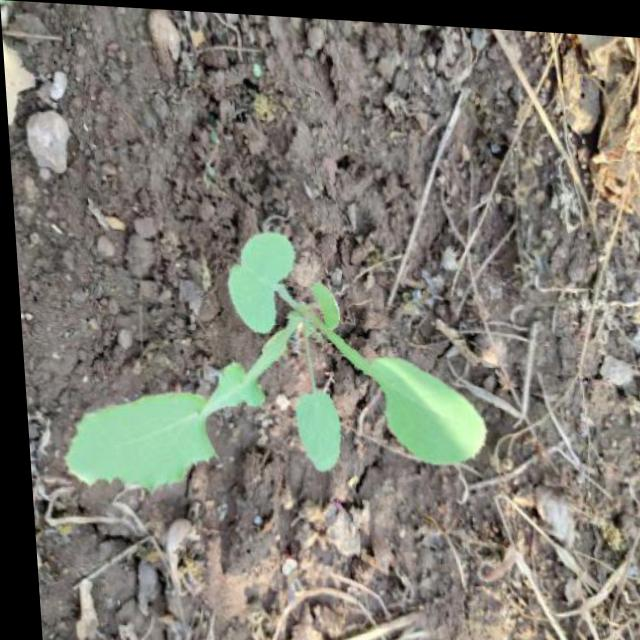weed: (35, 205, 493, 506)
